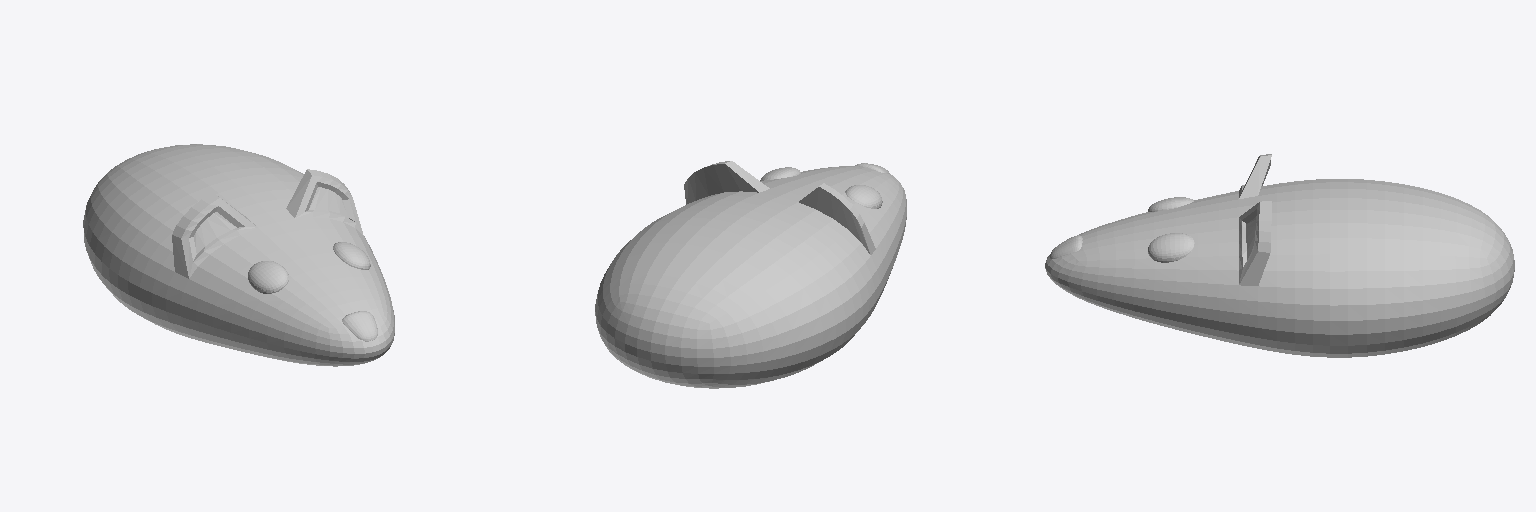
Rendered from rat.obj.
3 renders of one model, left to right at view 1: azimuth 30°, elevation 25°; view 2: azimuth 150°, elevation 25°; view 3: azimuth 270°, elevation 25°, orthographic.
Visible parts, largest first — view 1: Cube.001_Cube; view 2: Cube.001_Cube; view 3: Cube.001_Cube.
Part boxes in pixels (left/top/right/bottom): Cube.001_Cube: left=83, top=144, right=394, bottom=366; Cube.001_Cube: left=595, top=161, right=906, bottom=388; Cube.001_Cube: left=1045, top=154, right=1514, bottom=357.
Bounding box in the file's own units: 0.053 × 0.0352 × 0.0959.